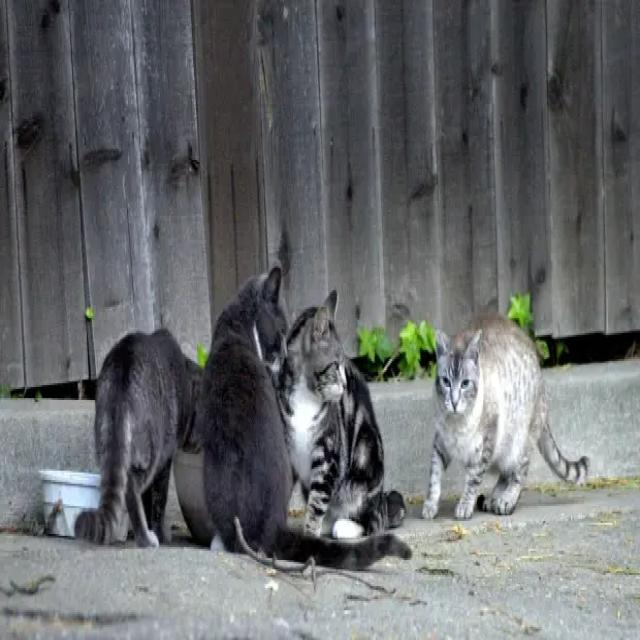cat: (422, 313, 589, 517), (279, 291, 404, 537), (75, 329, 204, 547), (201, 266, 294, 555)
